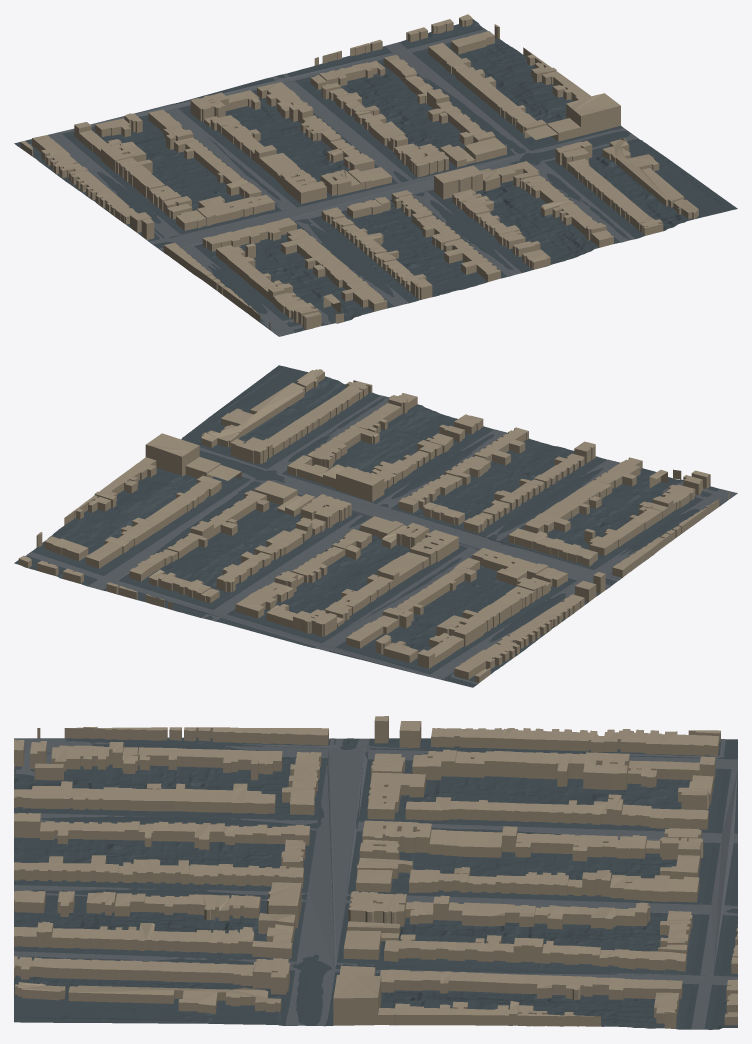
Rendered from epsg26910-1415-10881.lod0.glb.
3 renders of one model, top to bottom at view 1: azimuth 30°, elevation 25°; view 2: azimuth 150°, elevation 25°; view 3: azimuth 270°, elevation 25°, orthographic. The views are drawn at different scales.
Visible parts, largest first — view 1: epsg26910-1415-10881-lod0; view 2: epsg26910-1415-10881-lod0; view 3: epsg26910-1415-10881-lod0.
Part boxes in pixels (<box>): epsg26910-1415-10881-lod0: <box>14,14,737,336</box>; epsg26910-1415-10881-lod0: <box>14,365,737,687</box>; epsg26910-1415-10881-lod0: <box>14,716,737,1029</box>.
Size of the model in its own units: 384 by 28.15 by 384.
